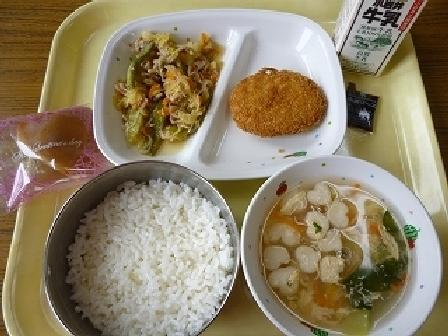Milk: (325, 0, 434, 75)
Rice: (52, 160, 239, 335)
Soups: (240, 160, 444, 335)
cutlet: (227, 63, 324, 144)
pastry: (7, 104, 95, 192)
vegetable based cooked food: (106, 27, 220, 150)
